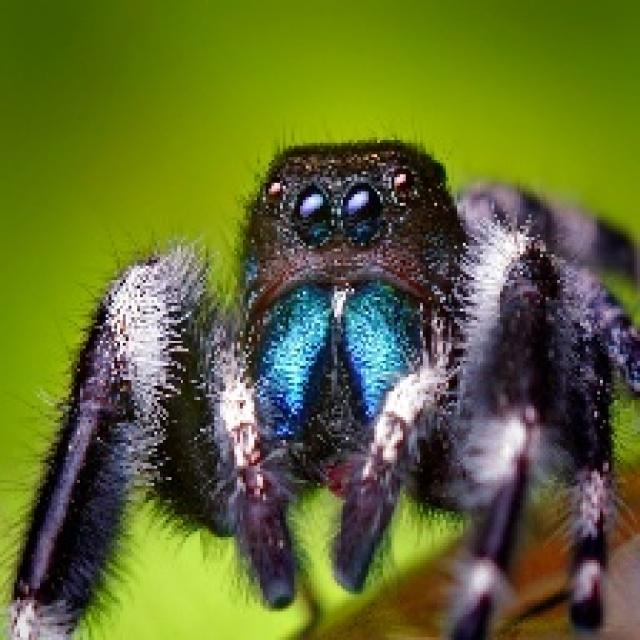Non venomous spider: (45, 46, 608, 608)
